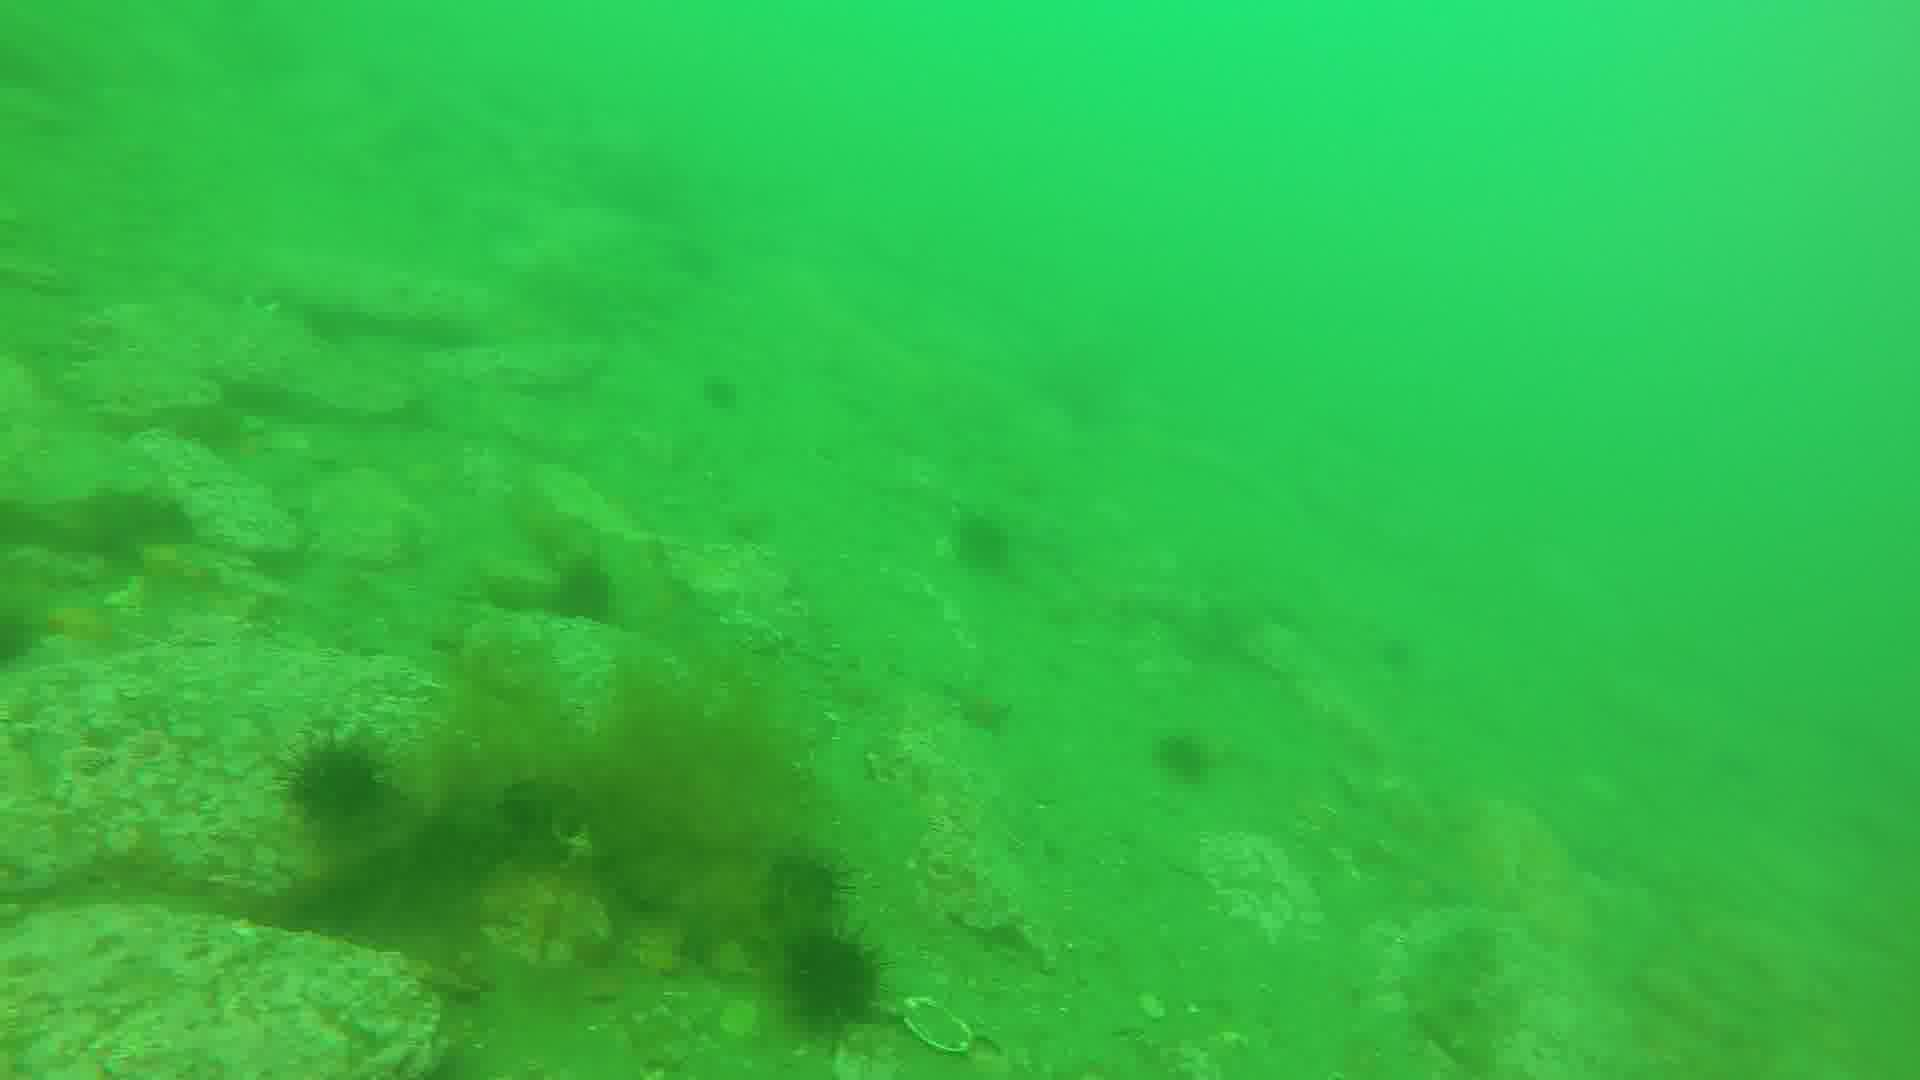echinus: (785, 931, 887, 1040), (281, 740, 389, 823), (769, 847, 855, 916), (953, 516, 1019, 583), (1149, 729, 1218, 789)
holothurian: (1396, 902, 1501, 1080)
scallop: (901, 986, 975, 1073)
